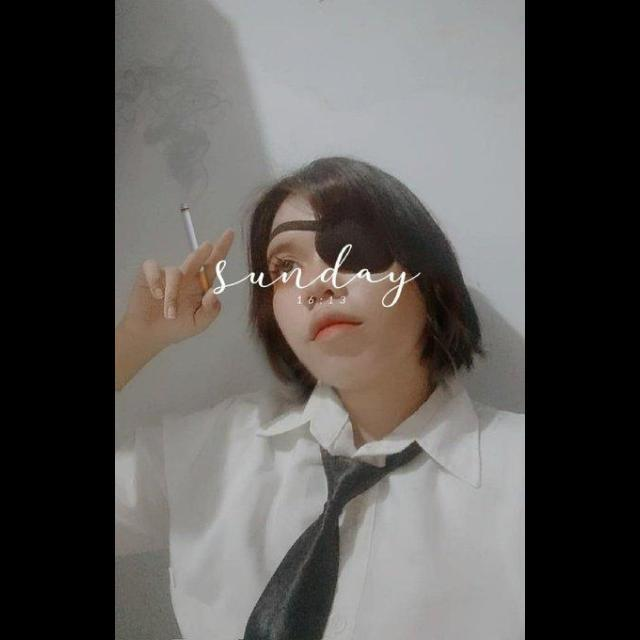rokok: (176, 198, 212, 298)
